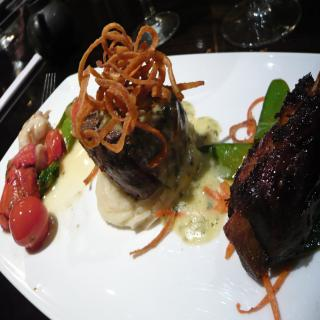tomato: (8, 194, 50, 252)
